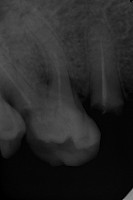Endo-Periodontal Lesion: (40, 70, 52, 86)
